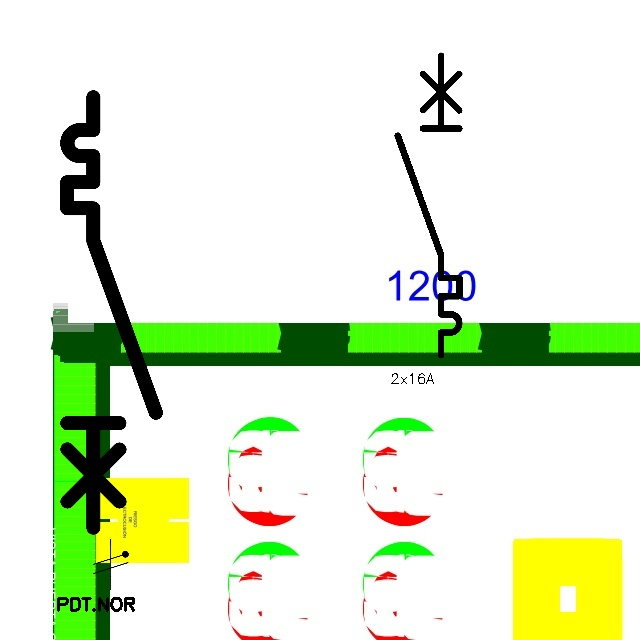interruptor_termomagnetico: (56, 86, 166, 538), (390, 48, 467, 363)
